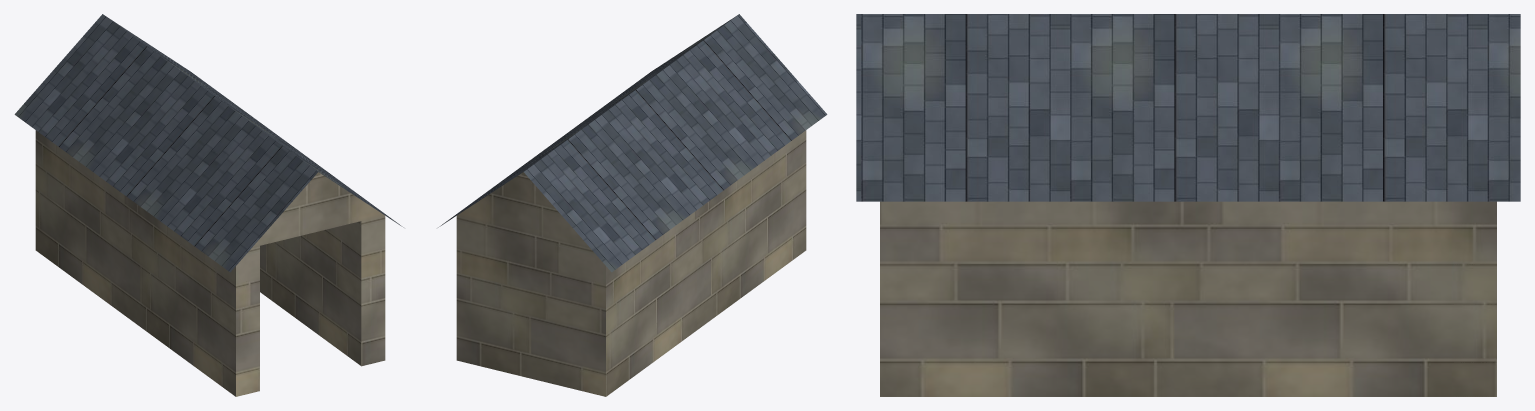
File: fort-cellar-stair.fort-v2.lod0.glb
3 renders of one model, left to right at view 1: azimuth 30°, elevation 25°; view 2: azimuth 150°, elevation 25°; view 3: azimuth 270°, elevation 25°, orthographic. The views are drawn at different scales.
Parts seen in each view (by area): view 1: fort-cellar-stair; view 2: fort-cellar-stair; view 3: fort-cellar-stair.
Boxes of the visible parts, bbox=[...] form: fort-cellar-stair: bbox=[14, 14, 403, 396]; fort-cellar-stair: bbox=[438, 14, 827, 396]; fort-cellar-stair: bbox=[856, 14, 1520, 396].
Bounding box in the file's own units: 3.3 × 3.8 × 7.
3 materials, 3 textured.
